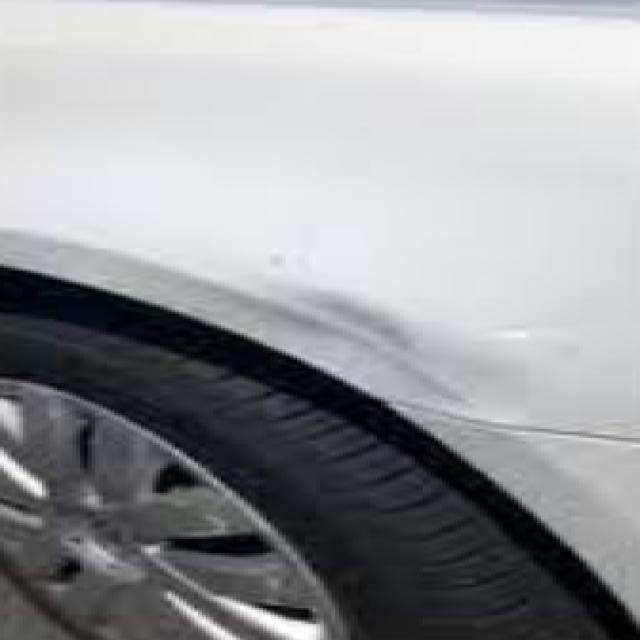dents: (264, 280, 441, 345)
